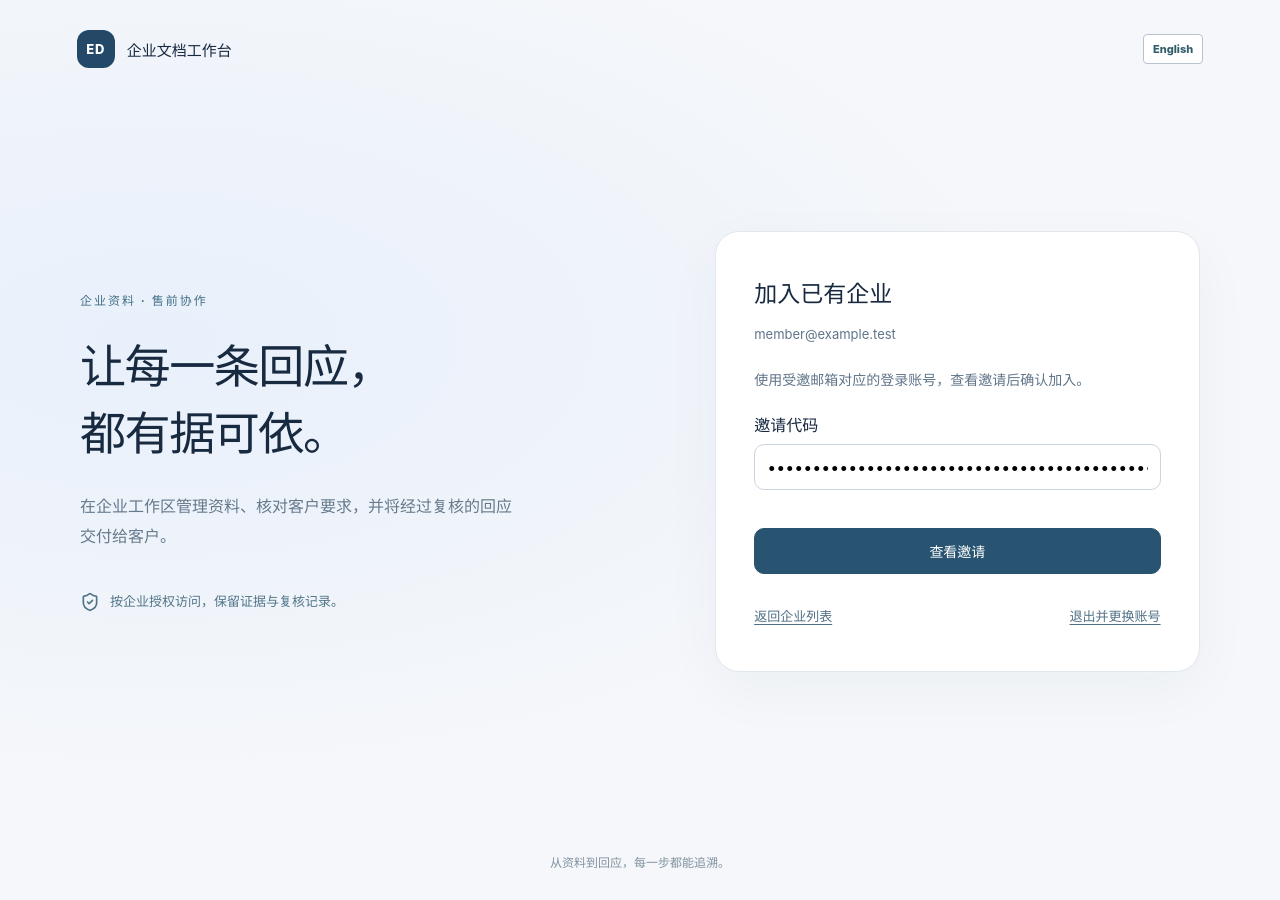
Test: returns to invitation review after a membership conflict without retrying acceptance
Step 1. Click the button "查看邀请" → (957, 551), box [754,528,1161,574]
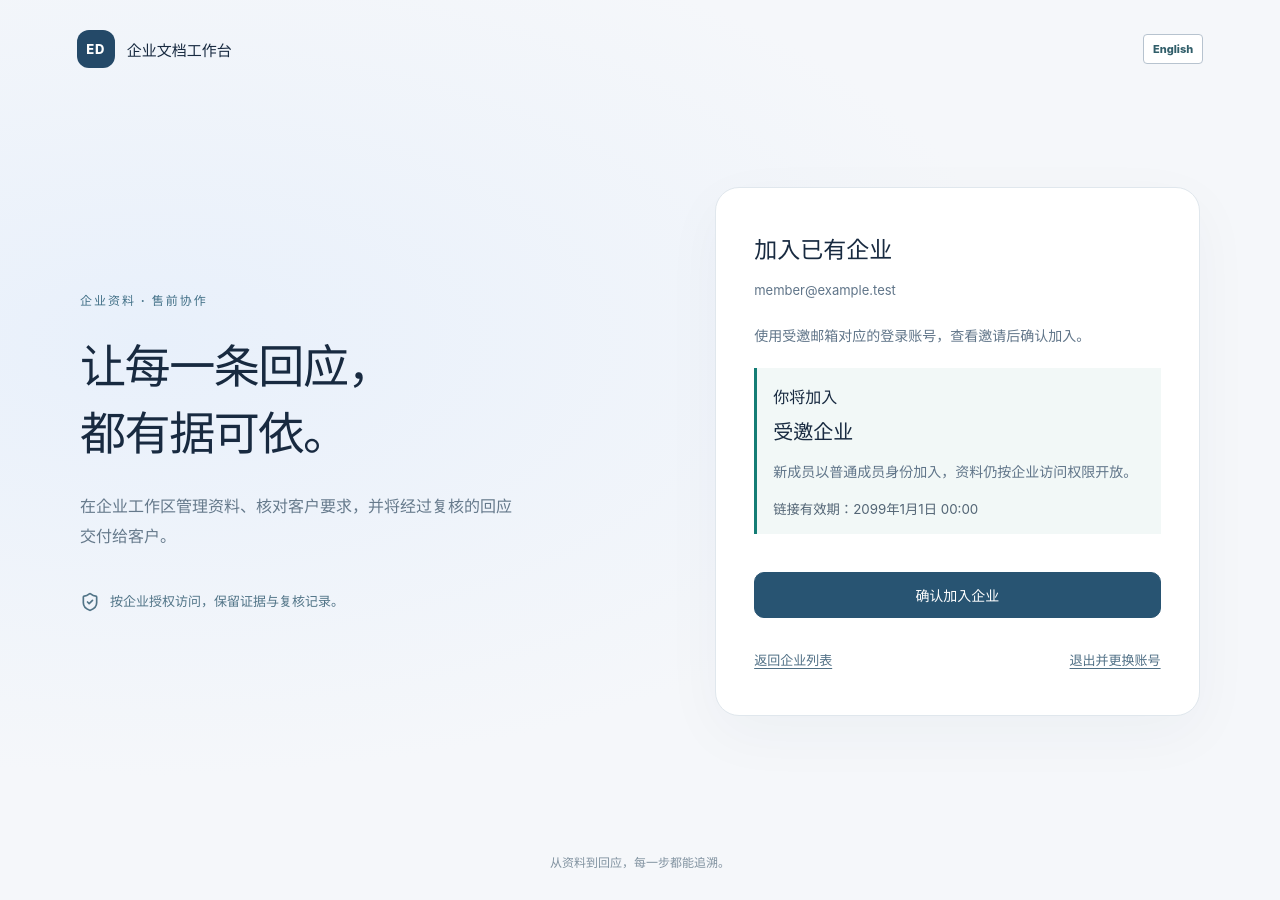
Step 2. Click the button "确认加入企业" → (957, 595), box [754,572,1161,618]
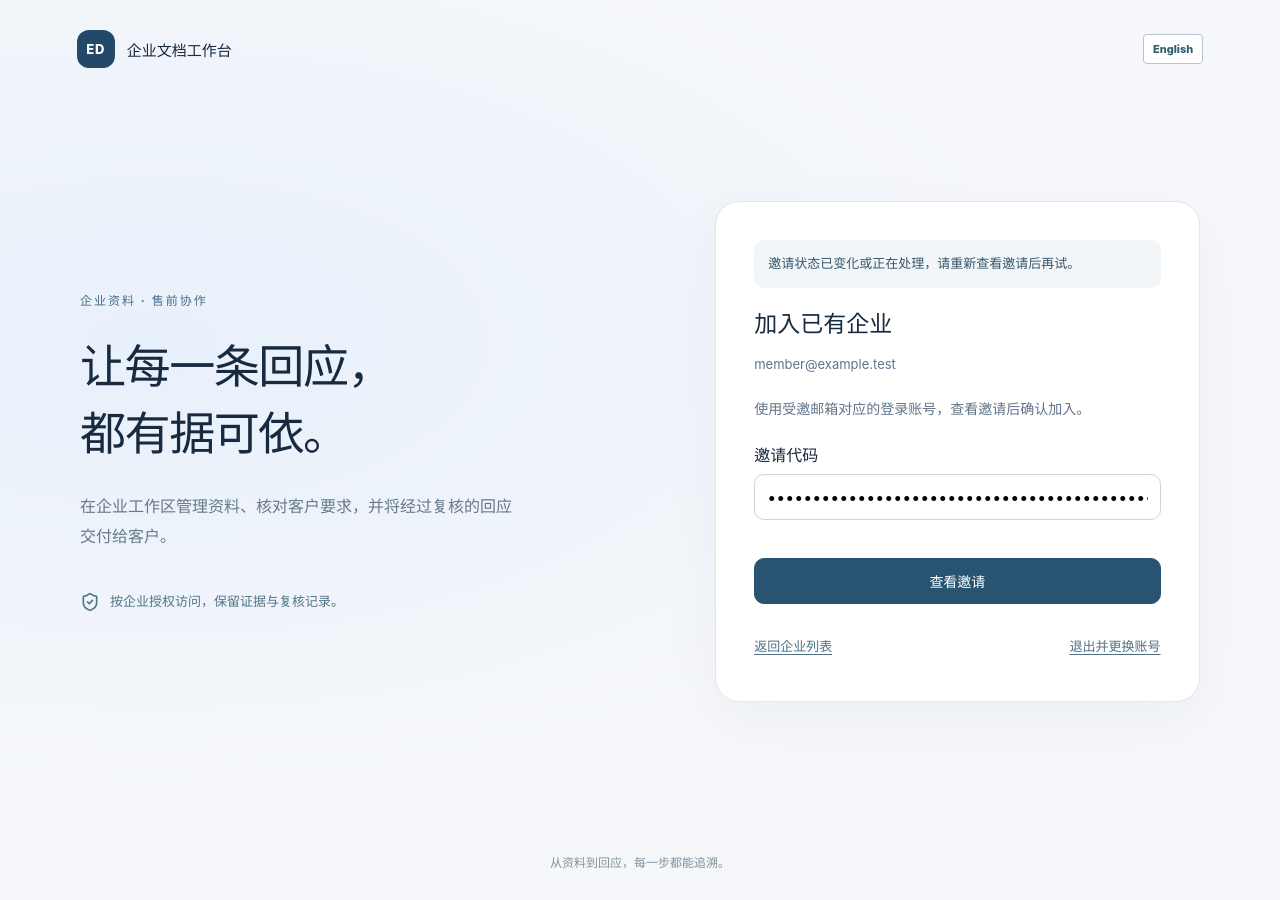
Expected: the button "查看邀请" is enabled, [754,558,1161,604]
Expected: the text "邀请状态已变化或正在处理，请重新查看邀请后再试。" is shown, [754,240,1161,288]
